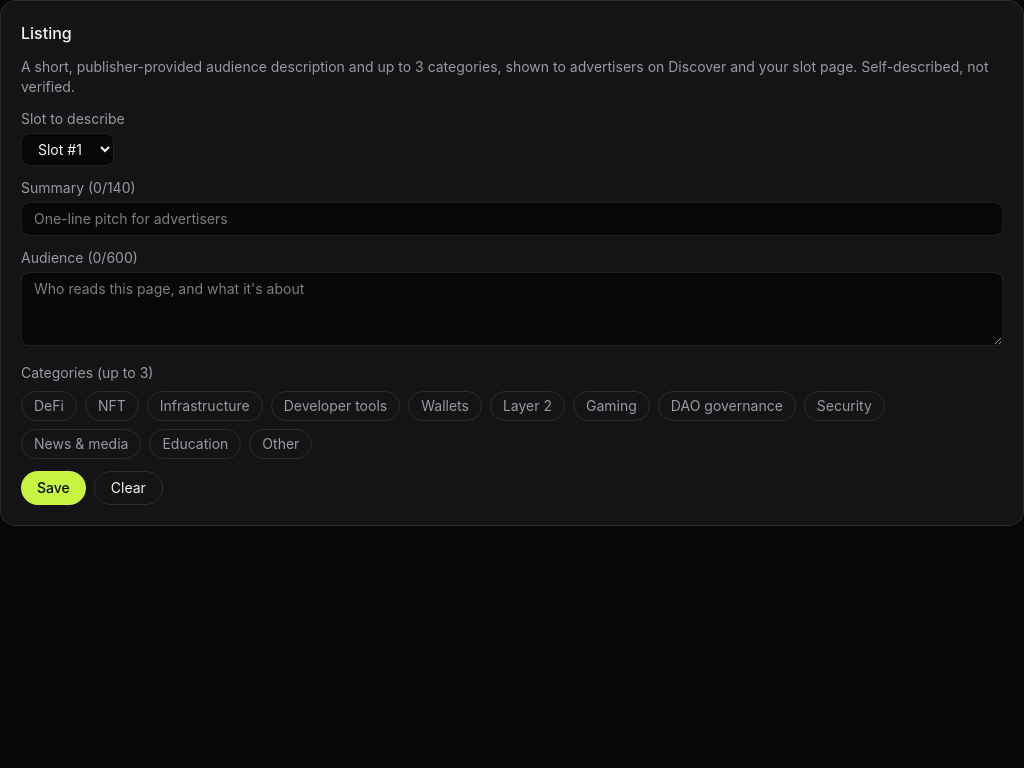
Test: ListingEditor › shows the ApiError message when clear is rejected (L2)
The image size is (1024, 768).
Step 1. Click the button "Clear" → (128, 488), box [94,471,163,505]
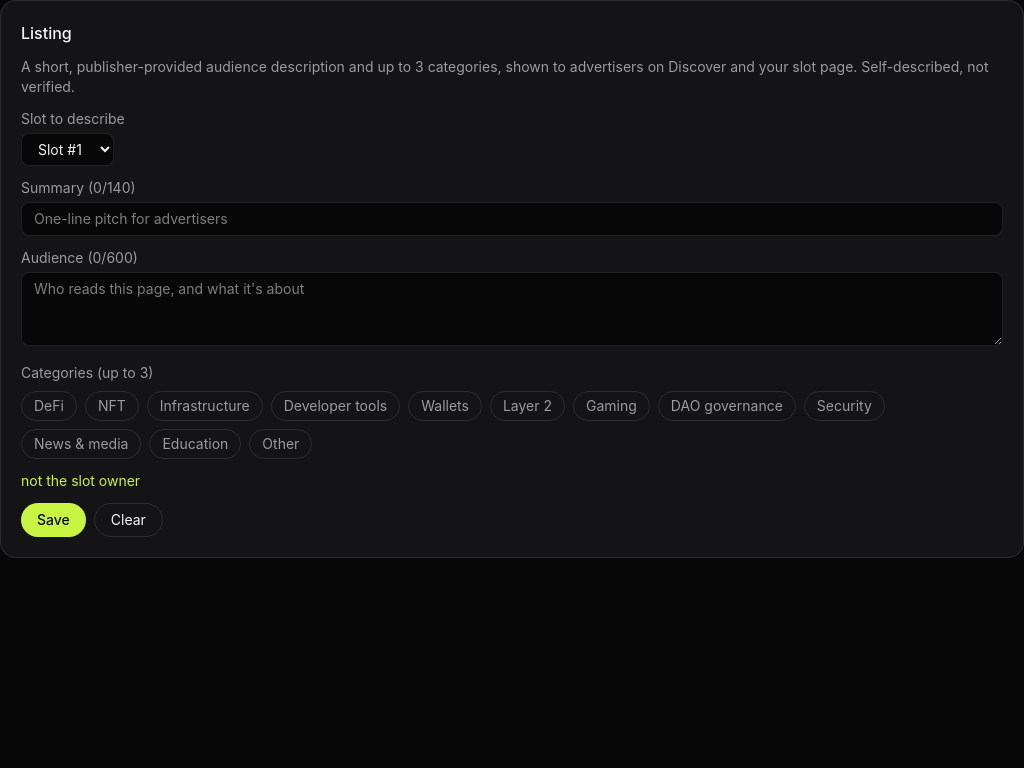
Check: the text "not the slot owner" is shown, box [21,472,140,489]
